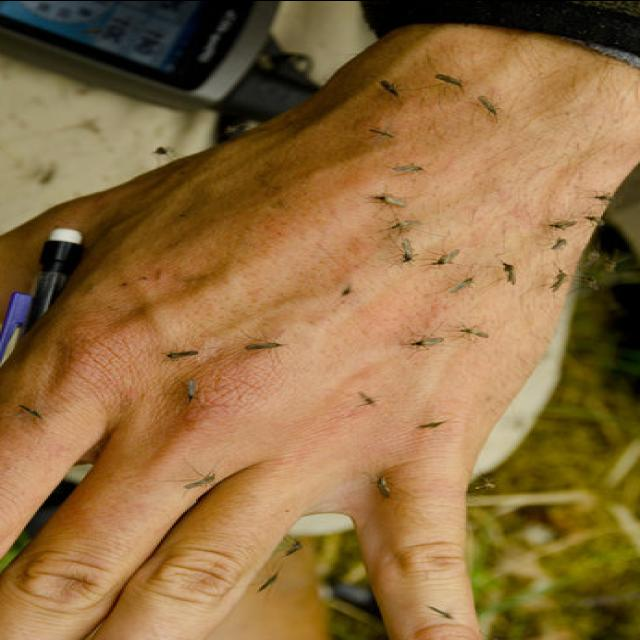Mosquito Swarm: (40, 61, 602, 568)
